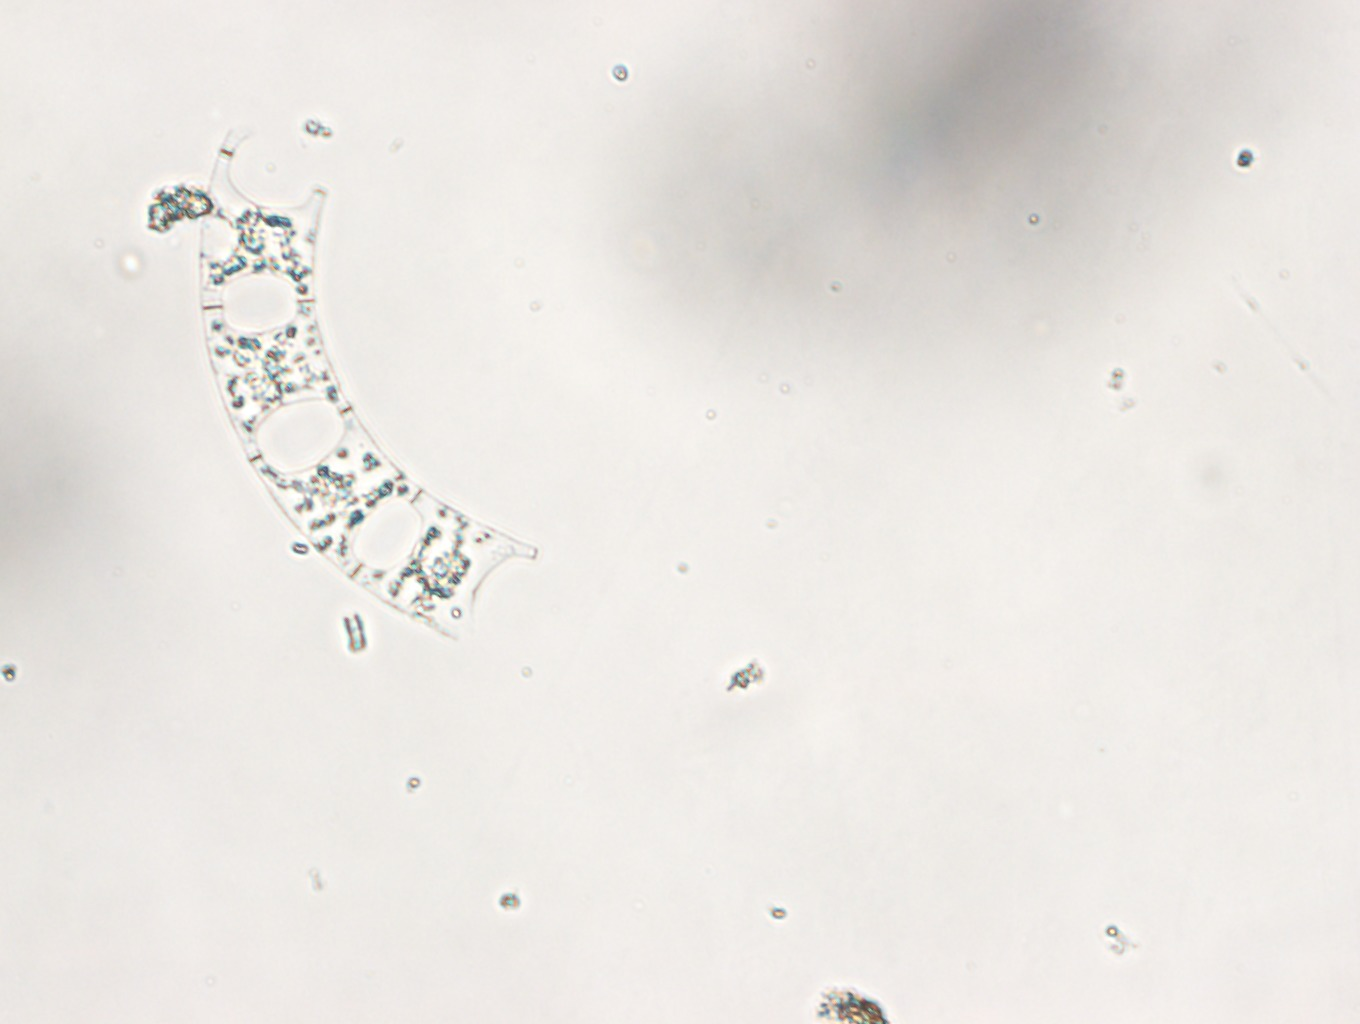eucampia: (197, 120, 543, 641)
